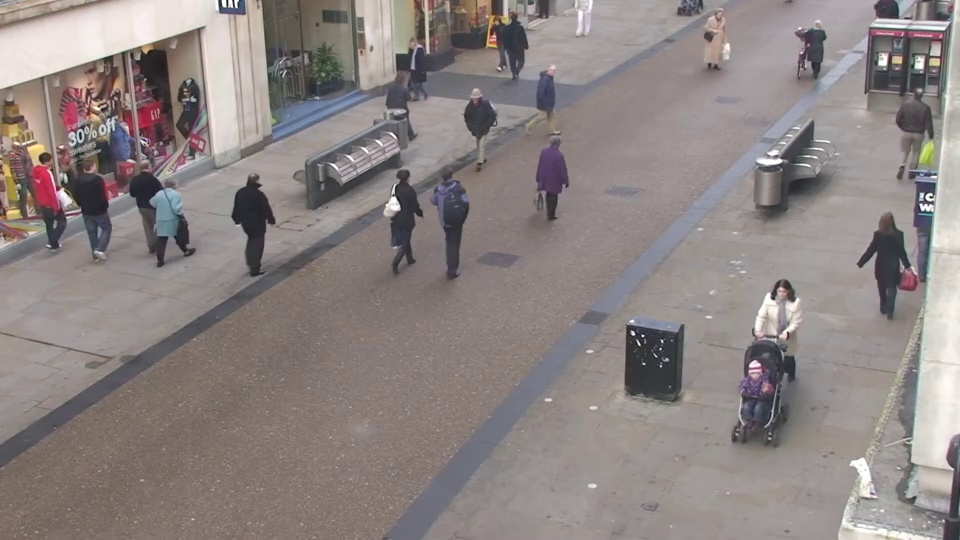pedestrian: (722, 356, 778, 515), (750, 276, 800, 414), (858, 201, 908, 321), (34, 145, 84, 247), (78, 154, 125, 257), (163, 167, 206, 274), (133, 152, 177, 255), (244, 164, 285, 271), (394, 157, 432, 264), (432, 159, 469, 267), (893, 81, 936, 172), (545, 128, 577, 228), (459, 91, 490, 180), (394, 68, 424, 150), (547, 60, 574, 141), (801, 13, 830, 84), (399, 36, 425, 108), (707, 7, 732, 74), (483, 15, 507, 83), (507, 9, 530, 75)
